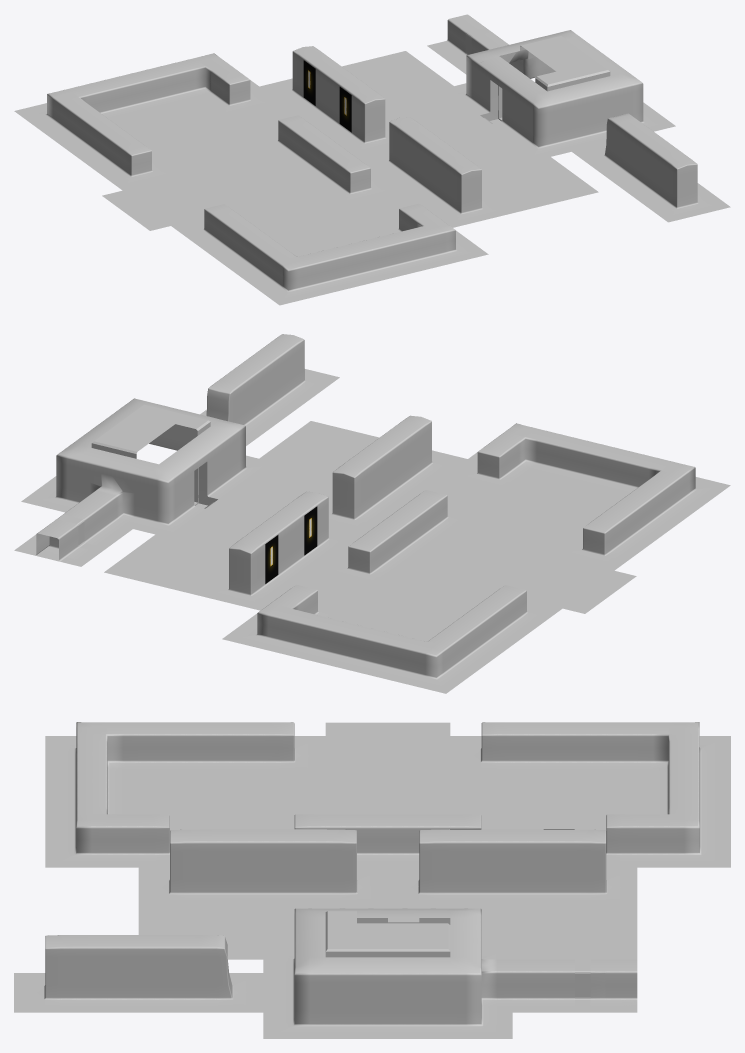
The model's file is Map01.fbx.
The picture shows the model from 3 angles, top to bottom: view 1: azimuth 30°, elevation 25°; view 2: azimuth 150°, elevation 25°; view 3: azimuth 270°, elevation 25°; orthographic projection. The views are drawn at different scales.
Parts seen in each view (by area): view 1: polySurface6, Ground_Large4, Ground_Large6, Ground_Large3, Ground_Large11, Ground_Large5, Ground_Large7, Ground_Large10, End_Long3, Ground_Large13, Ground_Large12, Ground_Large9 (+3 smaller); view 2: polySurface6, Ground_Large6, Ground_Large4, Ground_Large7, Ground_Large10, Ground_Large5, Ground_Large3, End_Long3, Ground_Large11, Ground_Large12, Ground_Large13, Ground_Large8 (+1 smaller); view 3: polySurface6, Ground_Large5, Ground_Large10, Ground_Large3, Ground_Large7, Ground_Large4, Ground_Large6, Ground_Large11, End_Long3, Ground_Large12, Ground_Large13.
Part boxes in pixels (x1,y1,x2,y2): polySurface6: (14,14,730,305); Ground_Large4: (161,137,292,192); Ground_Large6: (210,172,340,228); Ground_Large3: (113,102,244,157); Ground_Large11: (482,157,598,212); Ground_Large5: (102,175,223,230); Ground_Large7: (258,208,380,256); Ground_Large10: (342,51,453,102); End_Long3: (458,56,534,135); Ground_Large13: (385,91,480,136); Ground_Large12: (438,126,529,173); Ground_Large9: (221,104,297,136); polySurface6: (14,334,730,693); Ground_Large6: (432,513,572,572); Ground_Large4: (380,551,520,610); Ground_Large7: (483,475,624,535); Ground_Large10: (104,534,228,594); Ground_Large5: (505,554,636,613); Ground_Large3: (338,589,468,641); End_Long3: (159,436,241,520); Ground_Large11: (259,421,379,476); Ground_Large12: (230,464,332,513); Ground_Large13: (178,502,275,552); Ground_Large8: (426,478,508,513); polySurface6: (14,722,730,1038); Ground_Large5: (325,722,450,775); Ground_Large10: (512,907,637,959); Ground_Large3: (512,775,637,827); Ground_Large7: (138,775,263,827); Ground_Large4: (388,775,512,827); Ground_Large6: (263,775,387,827); Ground_Large11: (138,907,263,959); End_Long3: (357,908,450,924); Ground_Large12: (263,907,387,946); Ground_Large13: (388,907,512,946).
Size of the model in its own units: 2400 by 260 by 2300.
